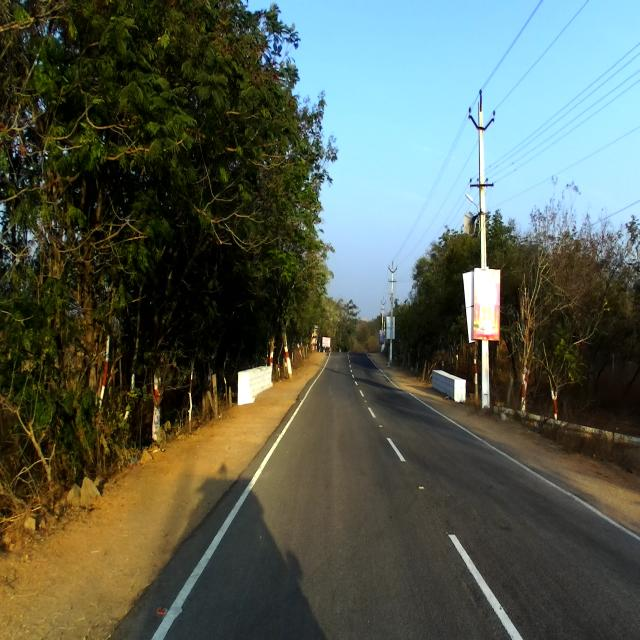electric pole ahead at: (466, 80, 502, 419)
